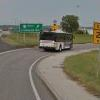Bus: (37, 27, 76, 55)
